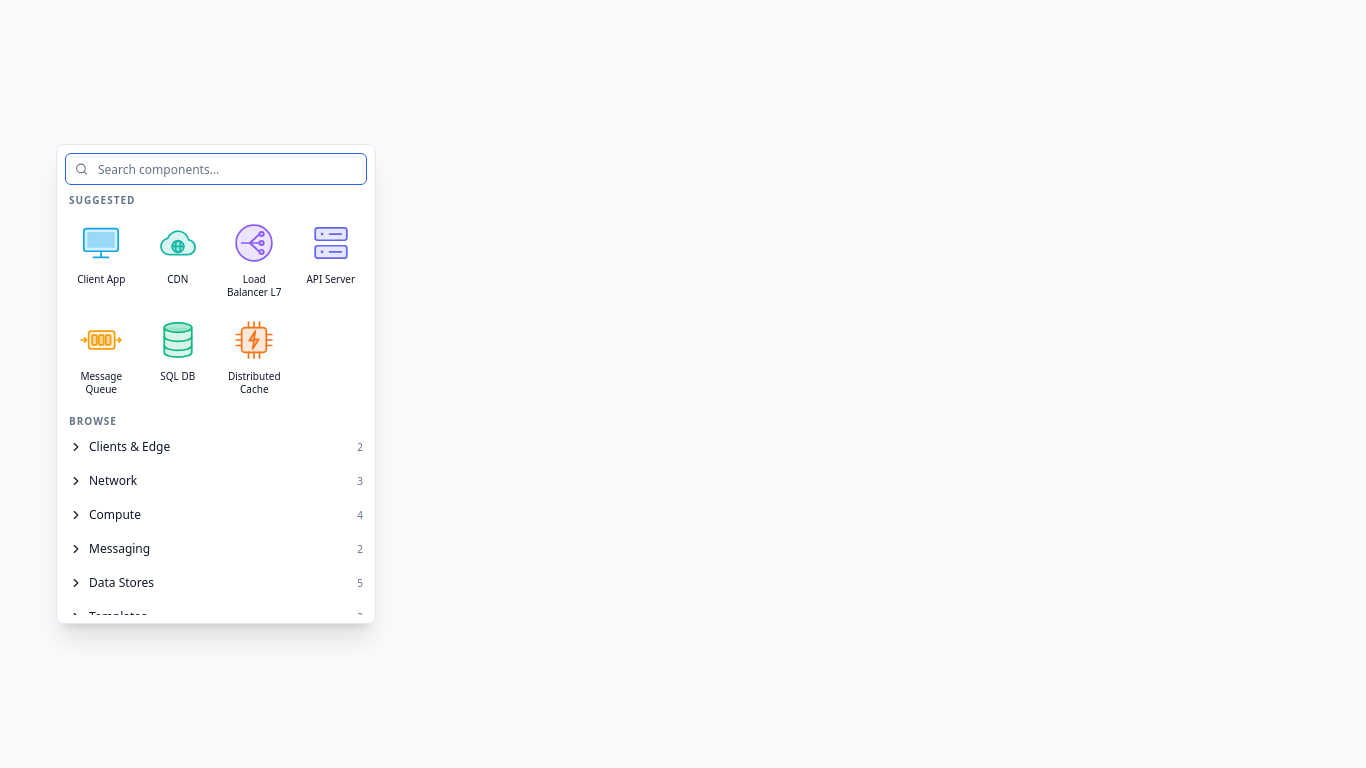
AddComponentPopover › expands one category at a time
This screenshot has width=1366, height=768.
Click the button "Clients & Edge 2" at (130, 446), box [65,431,367,463]
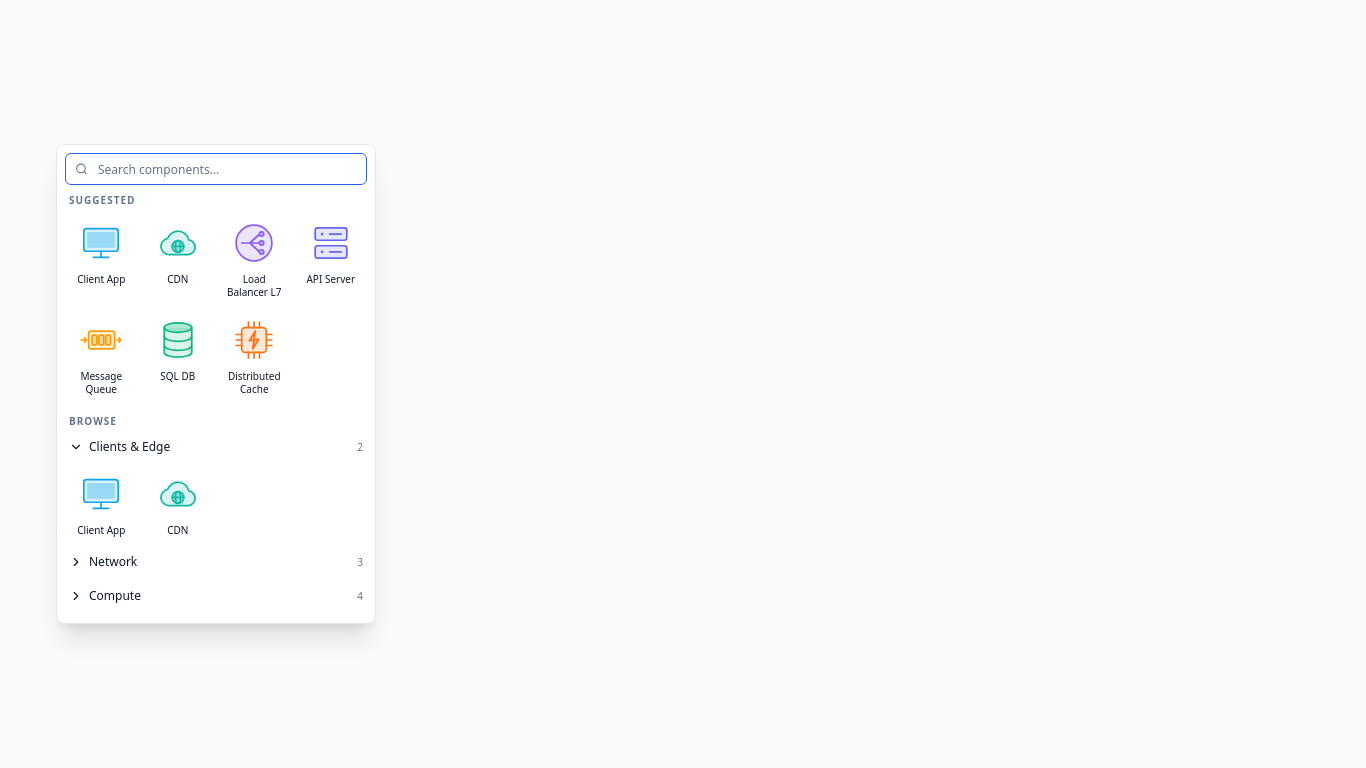
Now the button "Clients & Edge 2" is expanded, box [65,431,367,463]
Click the button "Network 3" at (113, 561), box [65,546,367,578]
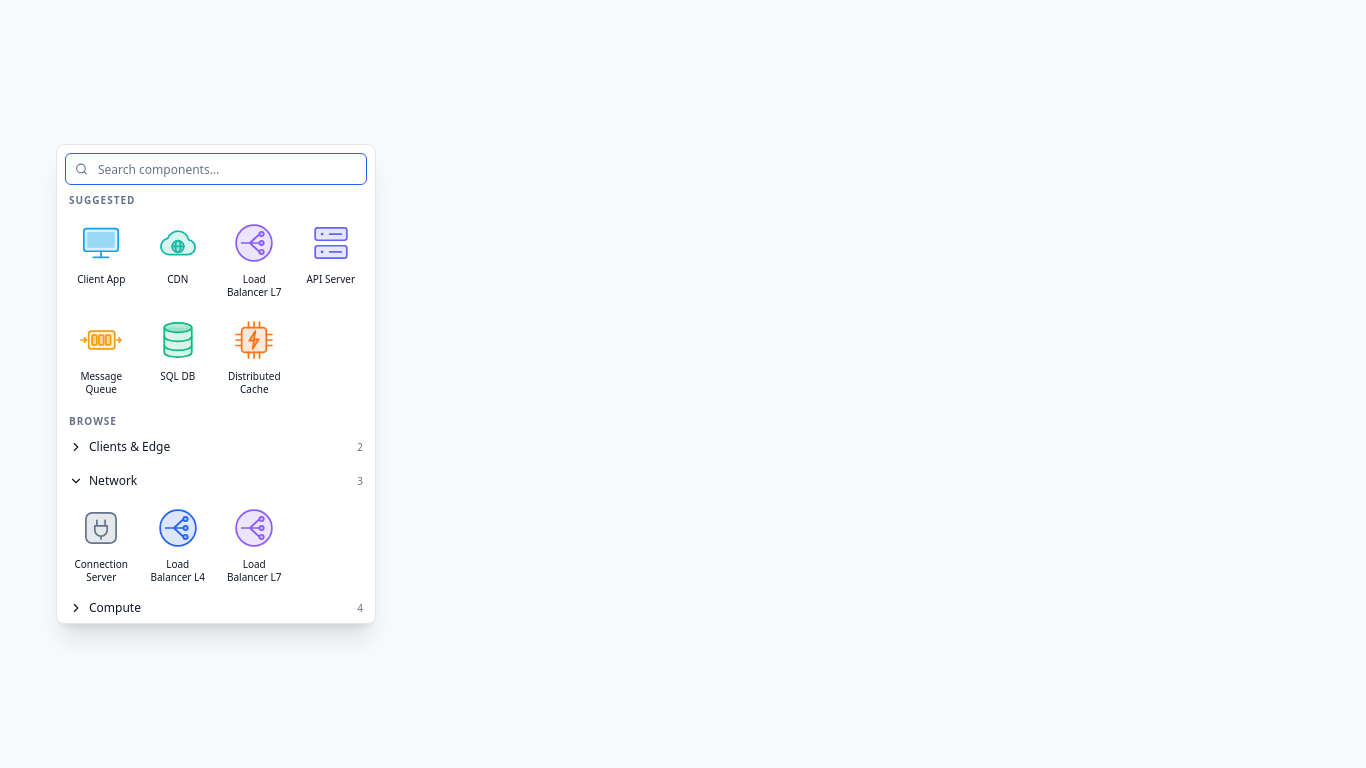
Now the button "Clients & Edge 2" is collapsed, box [65,431,367,463]
Now the button "Network 3" is expanded, box [65,465,367,497]
